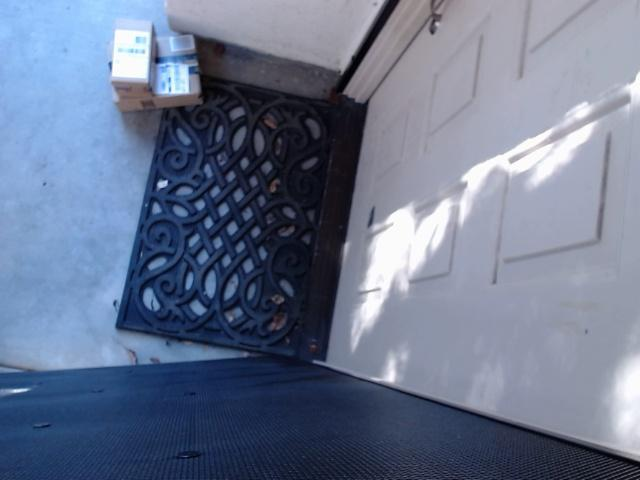box: (107, 33, 203, 115), (111, 19, 156, 95)
